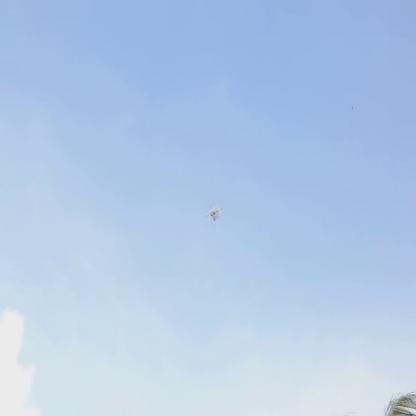drone: (205, 204, 220, 224)
